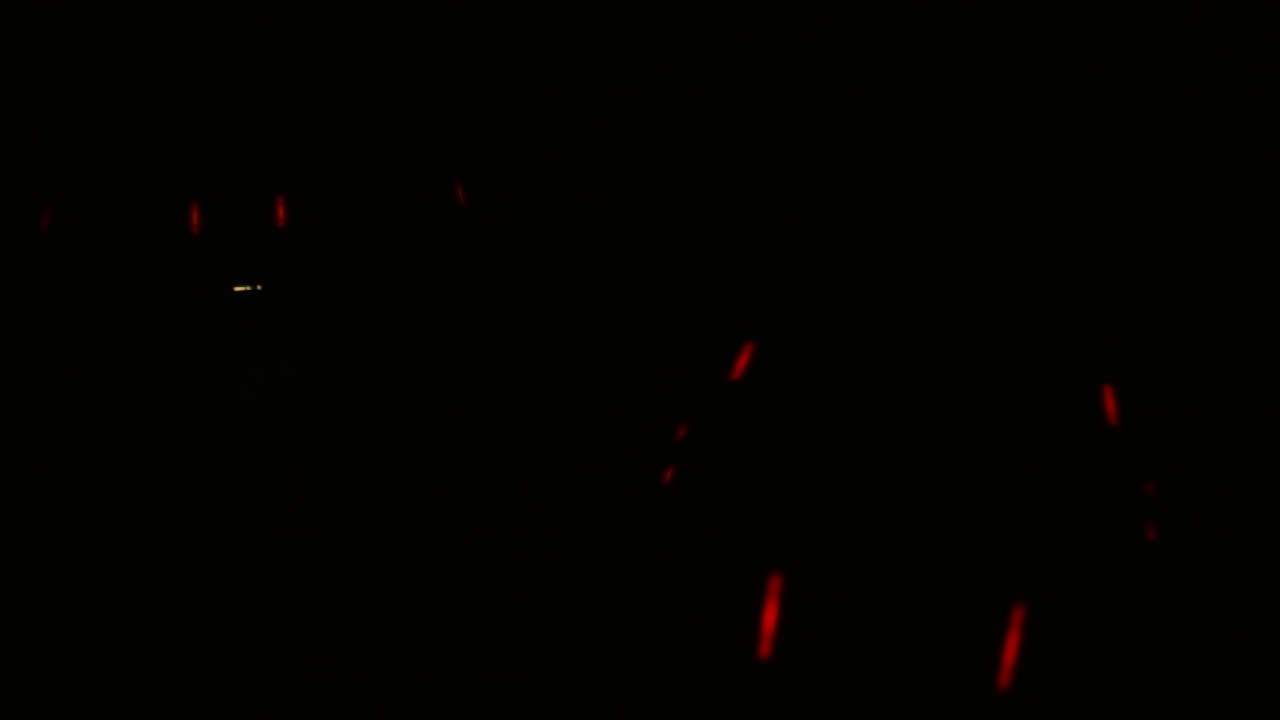pair1: (176, 183, 301, 247)
pair2: (741, 561, 1034, 704)
